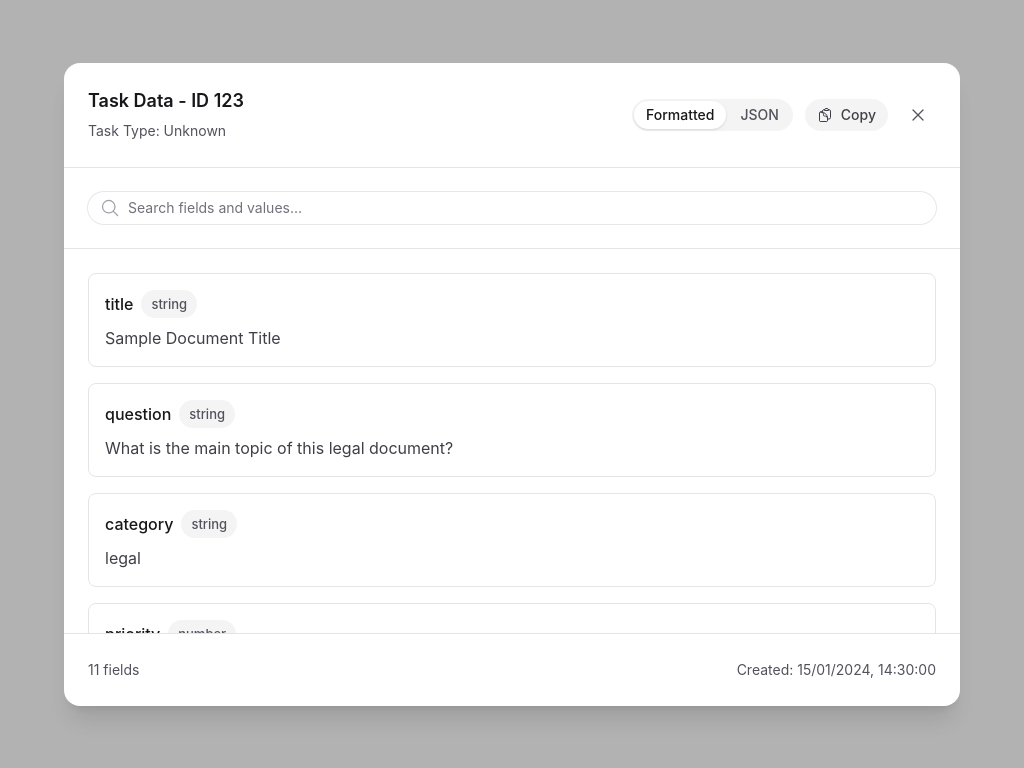
Test case: TaskDataViewModal › should copy to clipboard in JSON mode
Note: Switch to JSON view
Click the button "JSON".
click(760, 114)  # box [728,100,791,128]
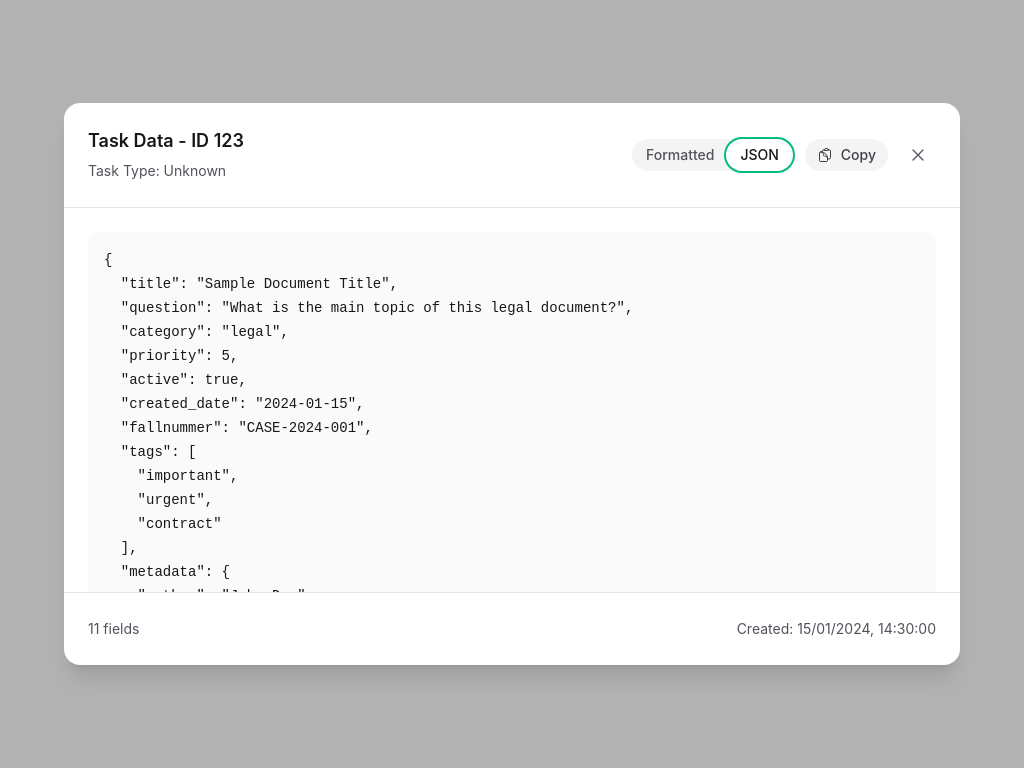
Click the button "Copy".
click(846, 155)  # box [805,139,888,171]
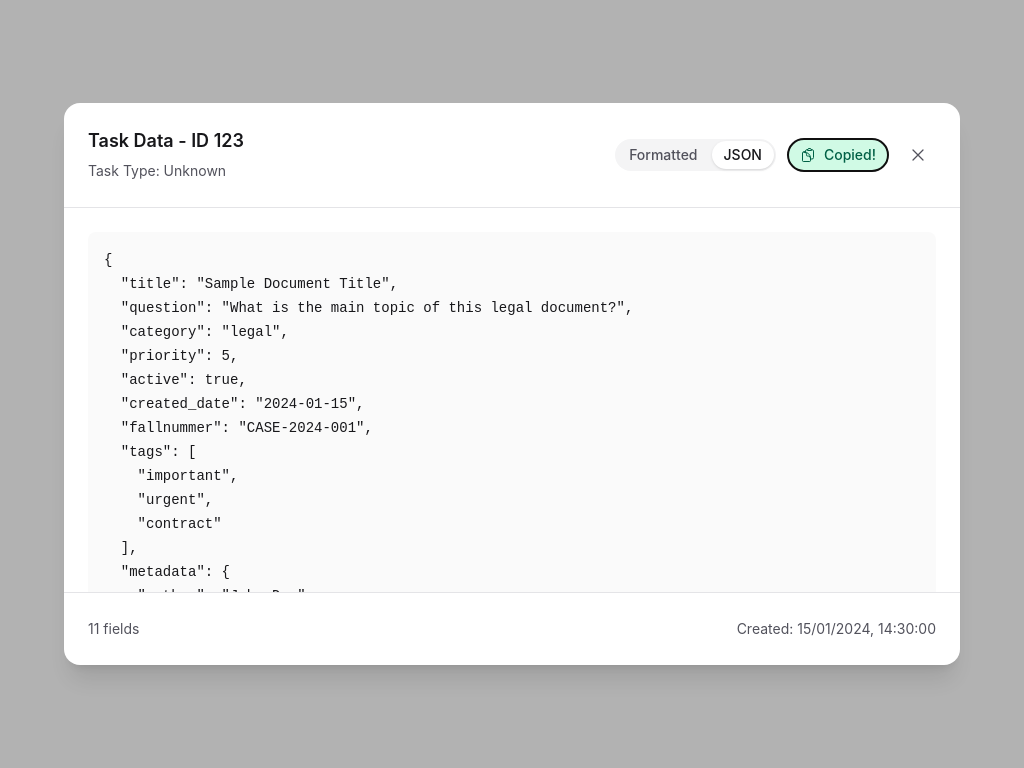
Now the button "Copied!" is shown, box [788,139,888,171]
